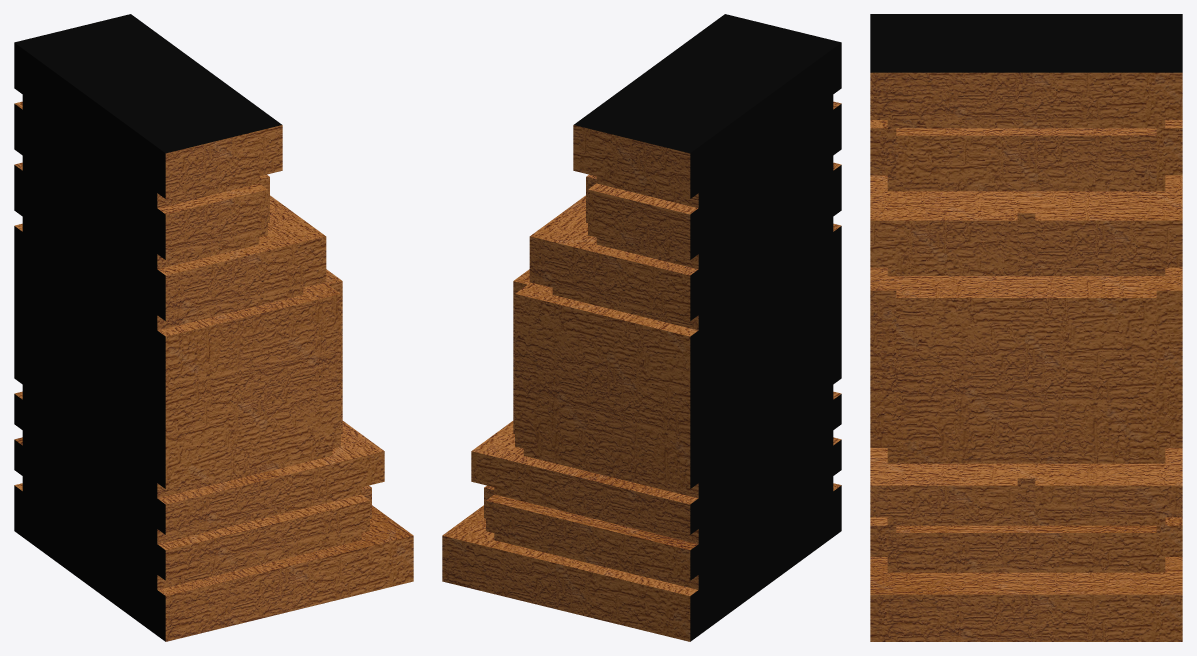
The model's file is wallTileFlat.fbx.
3 renders of one model, left to right at view 1: azimuth 30°, elevation 25°; view 2: azimuth 150°, elevation 25°; view 3: azimuth 270°, elevation 25°, orthographic. The views are drawn at different scales.
Visible parts, largest first — view 1: Cube.001; view 2: Cube.001; view 3: Cube.001.
Boxes of the visible parts, left/top/right/bottom form: Cube.001: left=14, top=14, right=413, bottom=641; Cube.001: left=442, top=14, right=841, bottom=641; Cube.001: left=870, top=14, right=1182, bottom=641.
Bounding box in the file's own units: 1.06 × 2 × 1.13.
